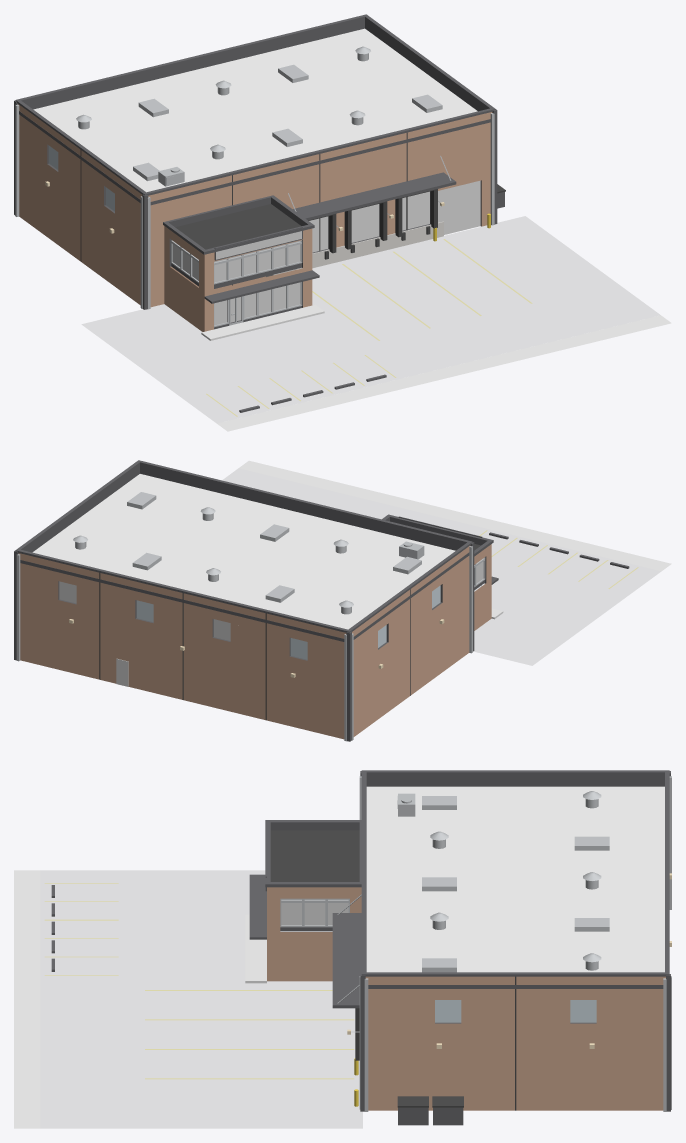
File: industrial_wh110.glb
The picture shows the model from 3 angles, top to bottom: view 1: azimuth 30°, elevation 25°; view 2: azimuth 150°, elevation 25°; view 3: azimuth 270°, elevation 25°; orthographic projection. The views are drawn at different scales.
Parts seen in each view (by area): view 1: industrial_wh110_Asphalt, industrial_wh110_Roof, industrial_wh110_Walls, industrial_wh110_Trim, industrial_wh110_Site, industrial_wh110_Roof2, industrial_wh110_Doors, industrial_wh110_Frames, industrial_wh110_WindowsLit, industrial_wh110_Details, industrial_wh110_Walls2, industrial_wh110_Paint (+1 smaller); view 2: industrial_wh110_Walls, industrial_wh110_Roof, industrial_wh110_Asphalt, industrial_wh110_Trim, industrial_wh110_Site, industrial_wh110_Details, industrial_wh110_Frames, industrial_wh110_Glass, industrial_wh110_WindowsLit, industrial_wh110_Roof2; view 3: industrial_wh110_Asphalt, industrial_wh110_Roof, industrial_wh110_Walls, industrial_wh110_Trim, industrial_wh110_Site, industrial_wh110_Roof2, industrial_wh110_Details, industrial_wh110_Frames, industrial_wh110_Paint, industrial_wh110_WindowsLit, industrial_wh110_Glass.
Boxes of the visible parts, box(x1,y1,x2,y2) form: industrial_wh110_Asphalt: box(81, 216, 660, 423); industrial_wh110_Roof: box(33, 28, 477, 192); industrial_wh110_Walls: box(18, 104, 492, 331); industrial_wh110_Trim: box(14, 14, 504, 412); industrial_wh110_Site: box(201, 304, 671, 431); industrial_wh110_Roof2: box(80, 132, 505, 285); industrial_wh110_Doors: box(309, 180, 480, 252); industrial_wh110_Frames: box(133, 64, 442, 327); industrial_wh110_WindowsLit: box(172, 241, 300, 325); industrial_wh110_Details: box(15, 46, 494, 315); industrial_wh110_Walls2: box(266, 221, 443, 276); industrial_wh110_Paint: box(206, 239, 532, 416); industrial_wh110_Walls: box(18, 544, 491, 739); industrial_wh110_Roof: box(32, 474, 455, 629); industrial_wh110_Asphalt: box(222, 468, 661, 665); industrial_wh110_Trim: box(14, 460, 629, 741); industrial_wh110_Site: box(239, 460, 671, 619); industrial_wh110_Details: box(16, 507, 472, 741); industrial_wh110_Frames: box(127, 492, 485, 602); industrial_wh110_Glass: box(136, 585, 440, 659); industrial_wh110_WindowsLit: box(59, 561, 483, 640); industrial_wh110_Roof2: box(99, 544, 480, 720); industrial_wh110_Asphalt: box(40, 870, 362, 1128); industrial_wh110_Roof: box(366, 786, 664, 972); industrial_wh110_Walls: box(267, 887, 665, 1110); industrial_wh110_Trim: box(51, 770, 670, 1125); industrial_wh110_Site: box(14, 870, 266, 1128); industrial_wh110_Roof2: box(270, 830, 516, 1110); industrial_wh110_Details: box(337, 776, 671, 1111); industrial_wh110_Frames: box(280, 796, 609, 972); industrial_wh110_Paint: box(44, 883, 354, 1079); industrial_wh110_WindowsLit: box(281, 899, 348, 925); industrial_wh110_Glass: box(435, 1000, 596, 1022).
Bounding box in the file's own units: 140 × 35.1 × 151.
